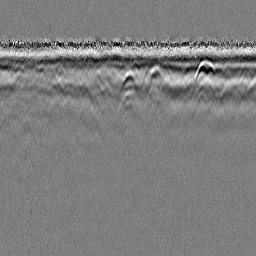cavity: (116, 68, 140, 99)
